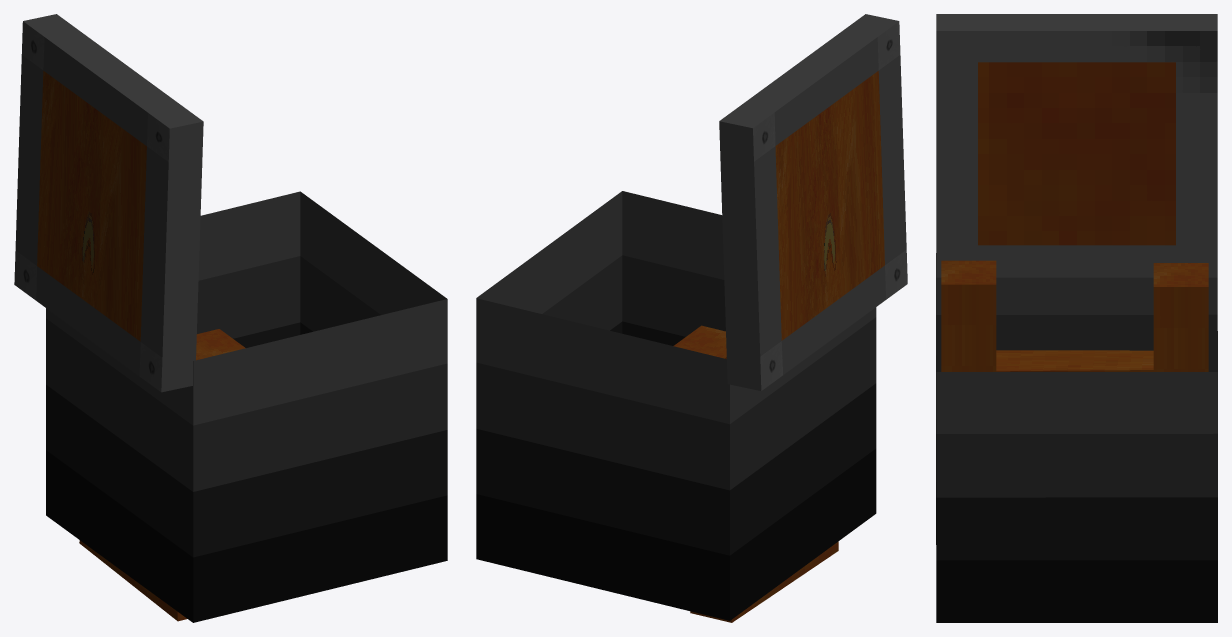
File: TrapdoorOpenFinal.glb
3 views of the same model, side by side, from view 1: azimuth 30°, elevation 25°; view 2: azimuth 150°, elevation 25°; view 3: azimuth 270°, elevation 25° (orthographic). The views are drawn at different scales.
Parts seen in each view (by area): view 1: Cube.001, Cube; view 2: Cube.001, Cube; view 3: Cube.001, Cube.
Part boxes in pixels (x1,y1,x2,y2): Cube.001: (14,14,447,622); Cube: (79,329,245,621); Cube.001: (476,14,907,620); Cube: (673,325,838,622); Cube.001: (936,14,1217,622); Cube: (941,260,1208,371).
Bounding box in the file's own units: 0.9535 × 1.66 × 0.8484.
10 materials, 6 textured.
